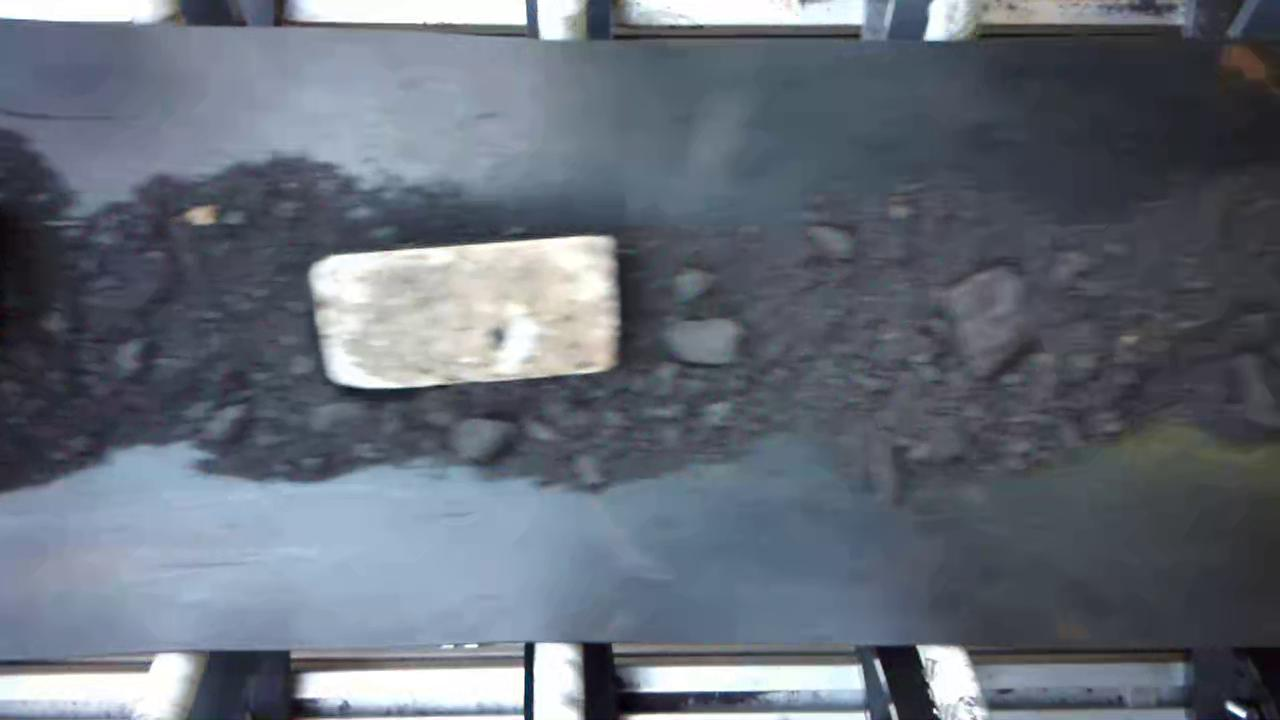conveyor: (9, 58, 1276, 632)
